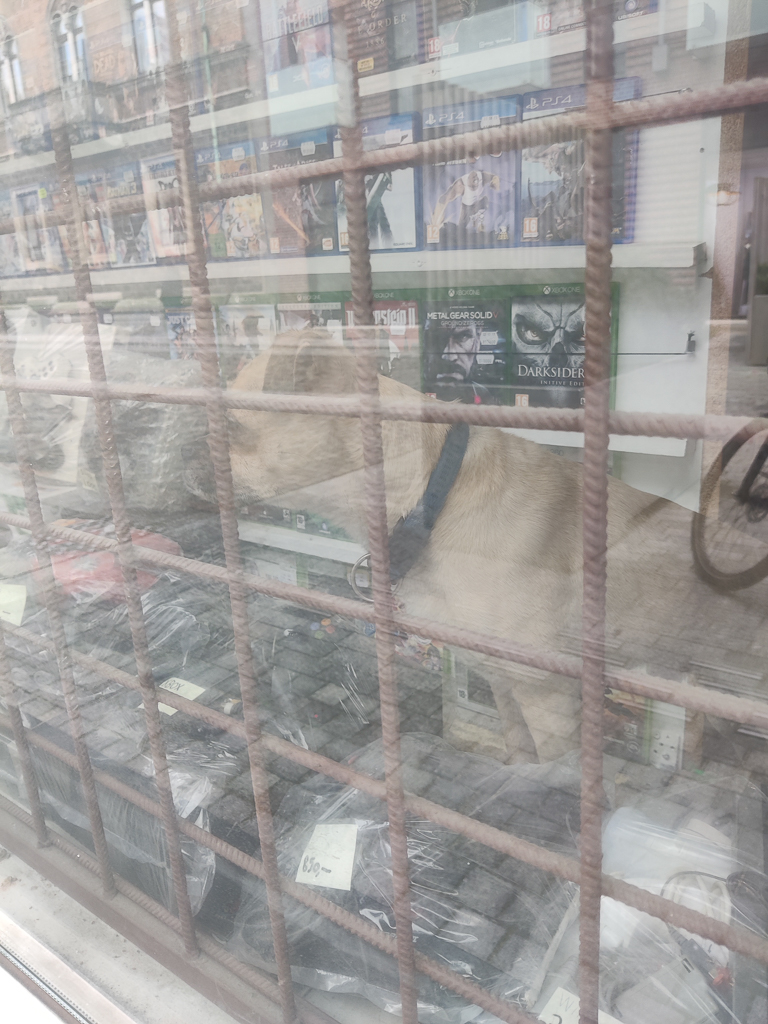Dog: (152, 313, 768, 782)
